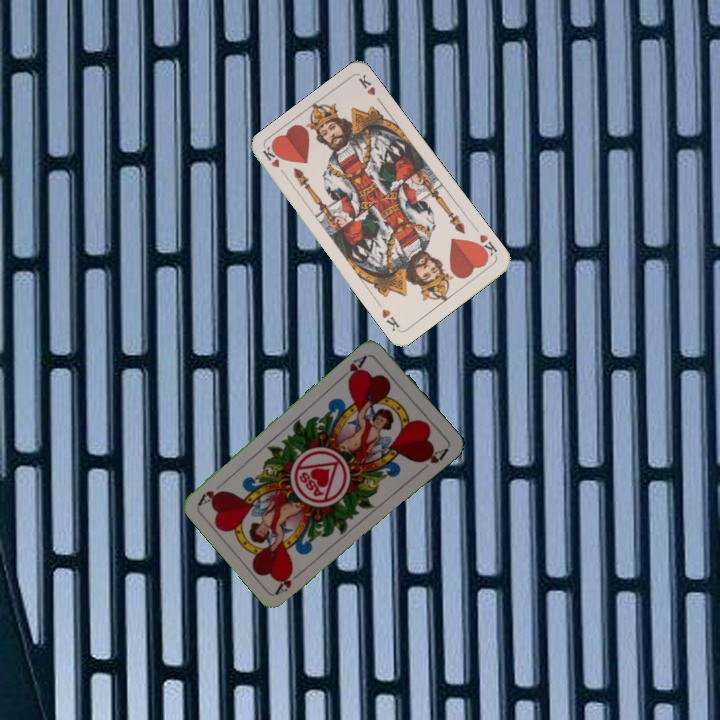HA: (337, 351, 370, 385), (272, 566, 306, 597)
HK: (258, 143, 290, 180), (472, 230, 500, 261)
